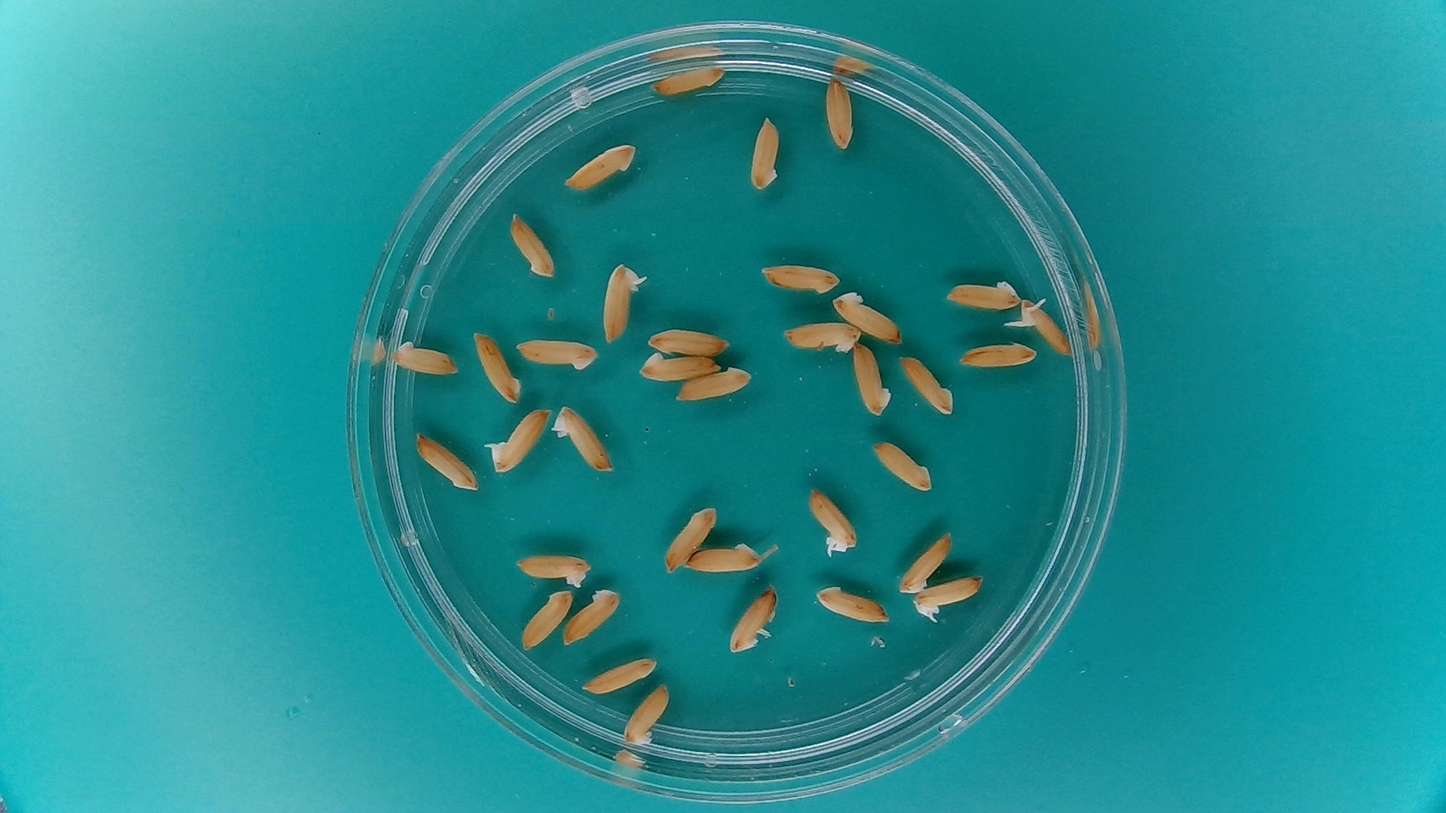no: (552, 402, 617, 473), (662, 501, 720, 574), (471, 328, 524, 406), (830, 290, 905, 344), (897, 352, 957, 419), (725, 581, 780, 654), (413, 431, 478, 492), (507, 210, 561, 281), (563, 142, 638, 191), (563, 586, 624, 645), (898, 529, 953, 594), (871, 437, 934, 492), (519, 588, 575, 649), (852, 338, 893, 418), (813, 583, 891, 625), (511, 549, 594, 587), (683, 538, 768, 575), (512, 335, 599, 371), (622, 681, 670, 746), (580, 656, 660, 695), (676, 364, 755, 403), (779, 319, 861, 355), (747, 114, 783, 194), (643, 325, 732, 357), (389, 337, 459, 377), (758, 261, 840, 294), (943, 276, 1020, 311), (636, 349, 721, 380), (651, 62, 726, 97), (821, 77, 856, 152), (957, 339, 1039, 370)
yes: (485, 405, 551, 473), (599, 258, 647, 346), (807, 484, 859, 558), (911, 574, 986, 623), (1013, 296, 1074, 356)
